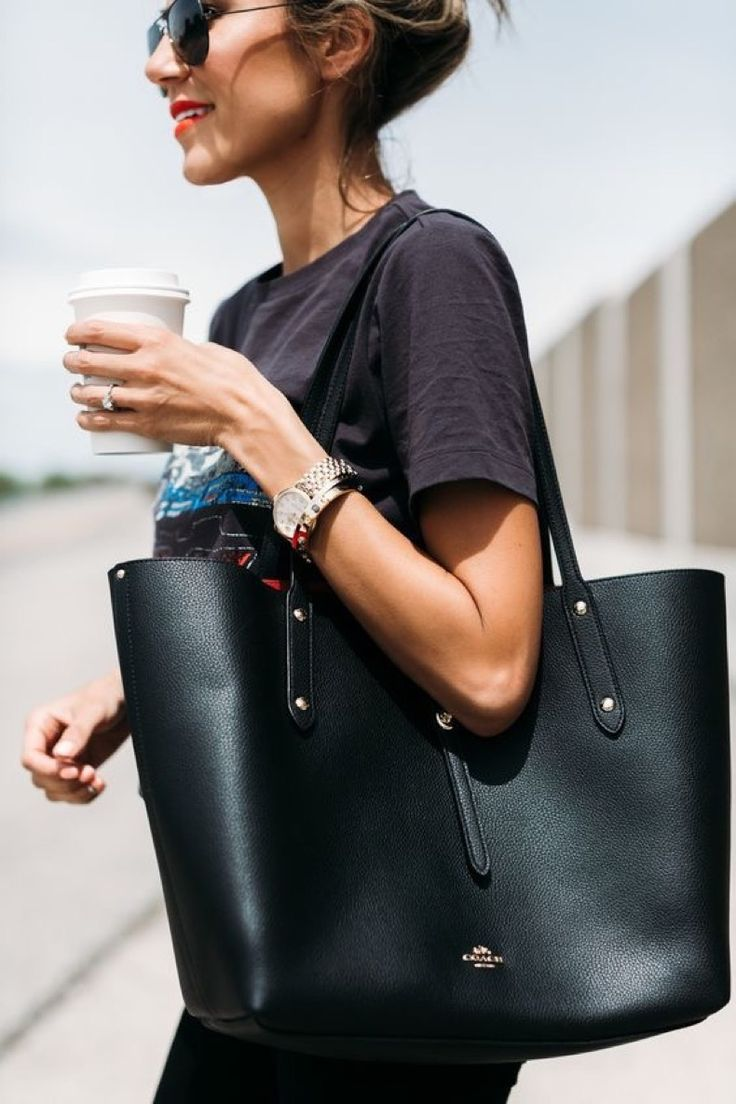cuero: (108, 209, 736, 1065)
